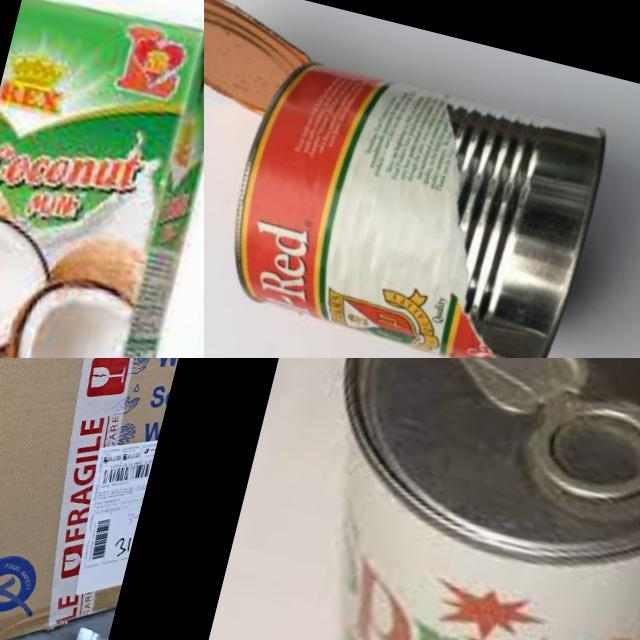aba de lata: (513, 373, 640, 531)
caixinha: (0, 0, 204, 358)
lata: (204, 0, 624, 358), (234, 358, 640, 640)
papelão: (0, 358, 204, 640)
tampa plástica: (68, 625, 96, 640)
